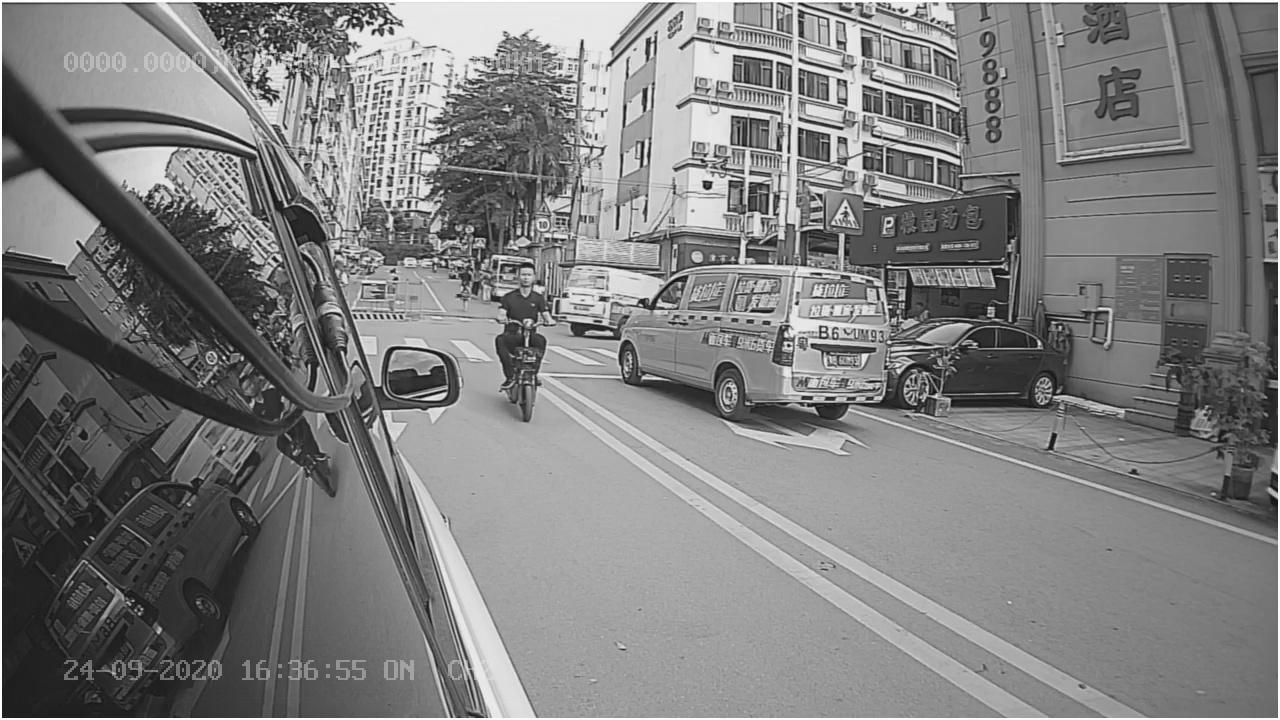person: (479, 252, 568, 439)
